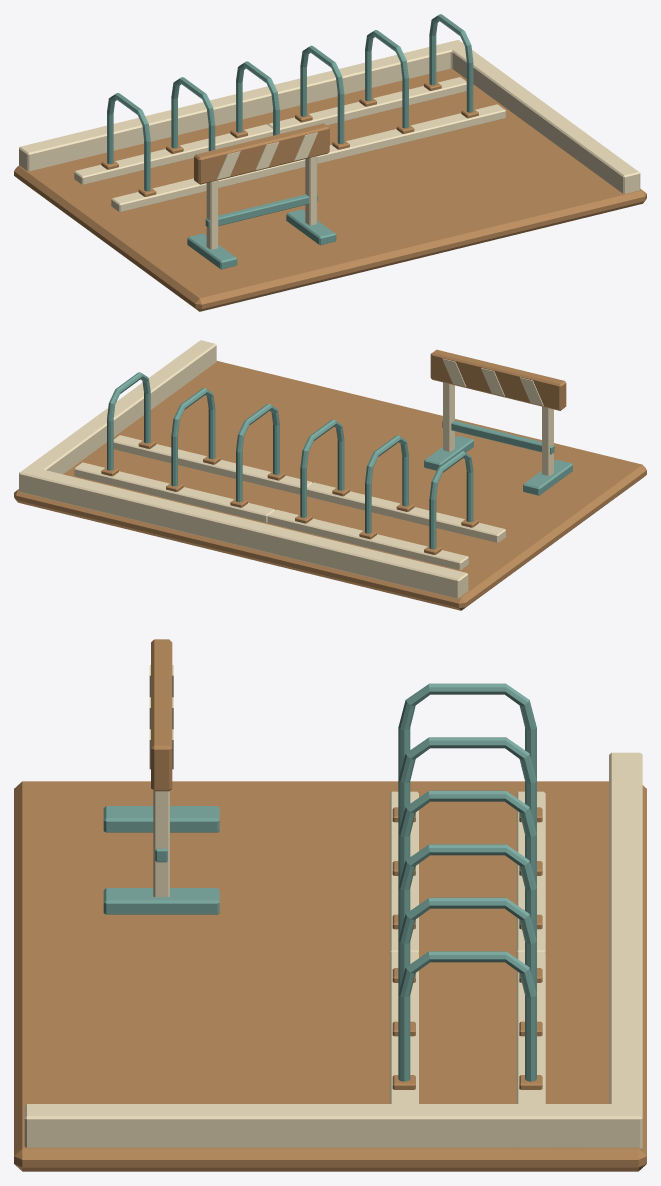
3 views of the same model, one above another, from view 1: azimuth 30°, elevation 25°; view 2: azimuth 150°, elevation 25°; view 3: azimuth 270°, elevation 25° (orthographic). The views are drawn at different scales.
Parts seen in each view (by area): view 1: transport-parking-corner-scene-01; view 2: transport-parking-corner-scene-01; view 3: transport-parking-corner-scene-01.
Boxes of the visible parts, x1,y1,x2,y2 form: transport-parking-corner-scene-01: (14,14,646,311); transport-parking-corner-scene-01: (14,340,646,610); transport-parking-corner-scene-01: (14,639,646,1171).
Bounding box in the file's own units: 4.2 × 1.03 × 3.
